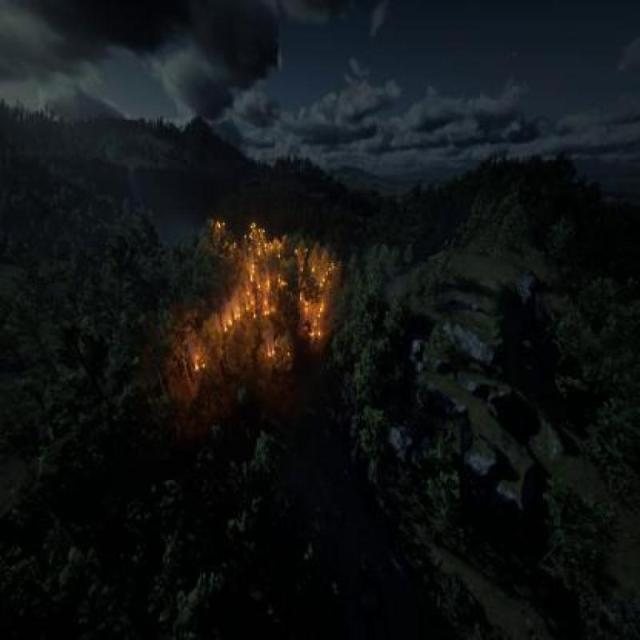Fire: (189, 212, 349, 392)
